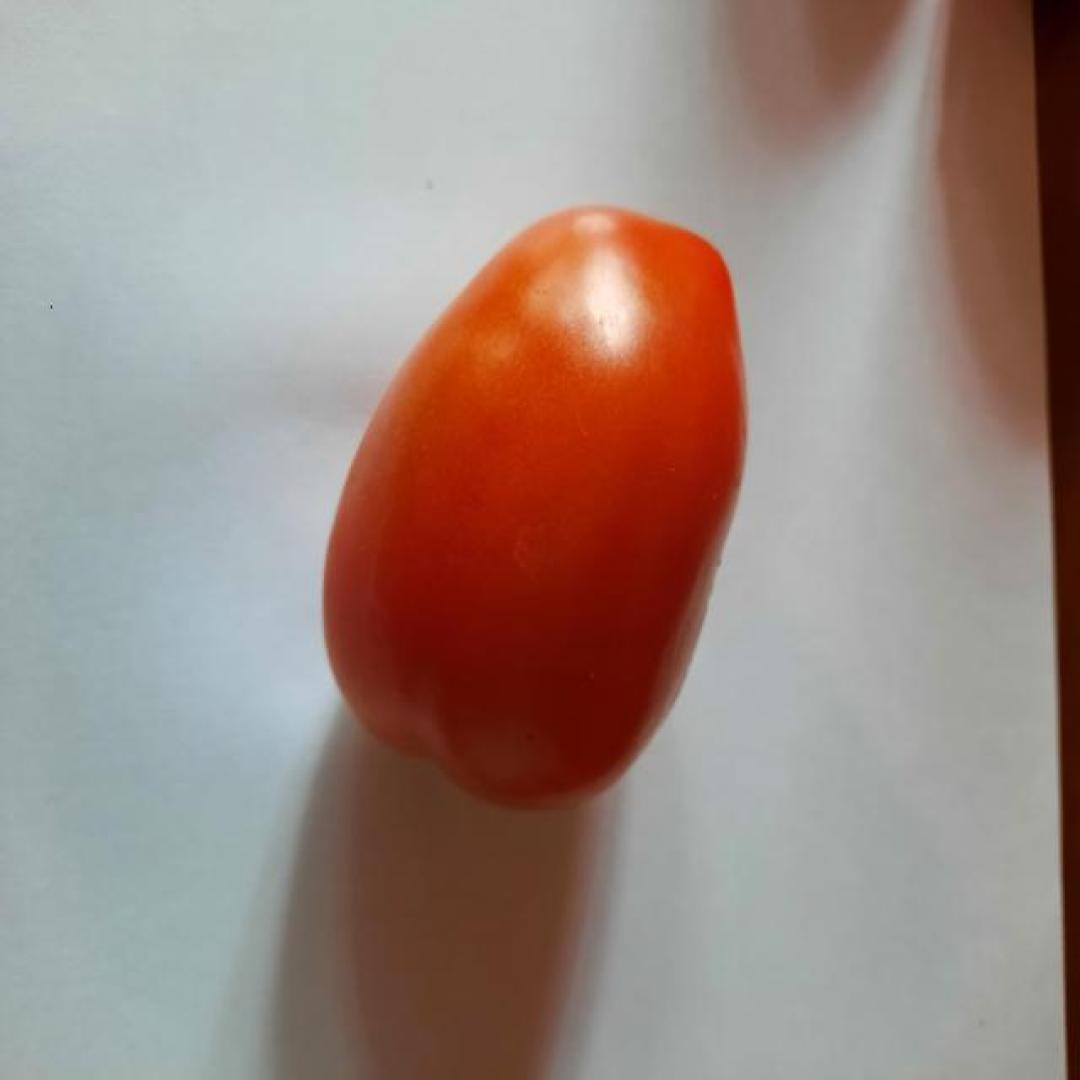matang: (322, 202, 748, 812)
